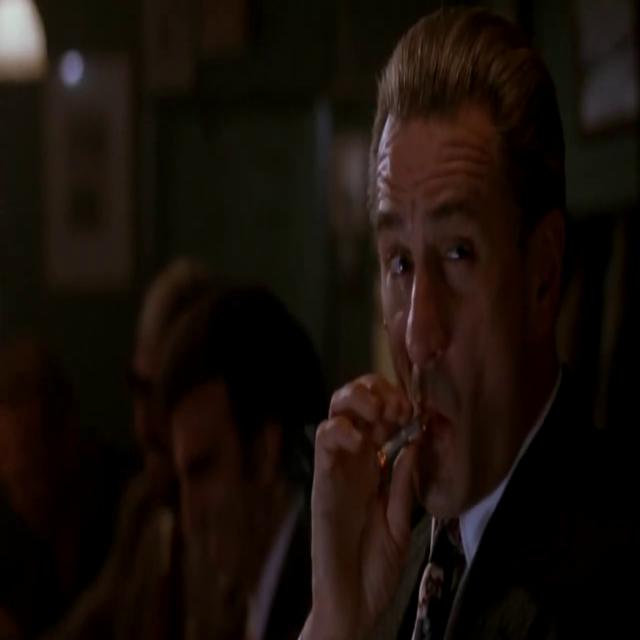Smooking: (367, 392, 432, 479)
